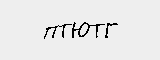Г: (101, 18, 120, 42)
П: (42, 25, 57, 41)
Т: (88, 19, 105, 43), (56, 21, 71, 44)
Ю: (71, 19, 89, 39)
